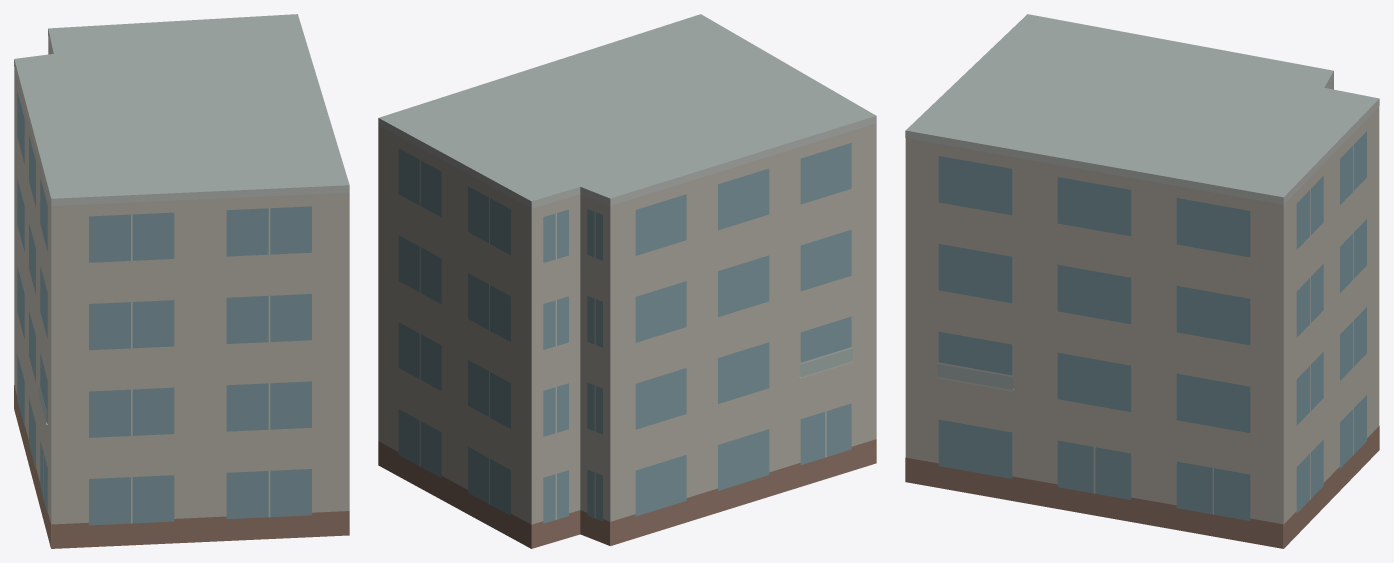
Rendered from survey-upis-32973999.glb.
The picture shows the model from 3 angles, left to right: view 1: azimuth 30°, elevation 25°; view 2: azimuth 150°, elevation 25°; view 3: azimuth 270°, elevation 25°; orthographic projection.
Parts seen in each view (by area): view 1: survey-upis-32973999.tmp; view 2: survey-upis-32973999.tmp; view 3: survey-upis-32973999.tmp.
Part boxes in pixels (left/top/right/bottom): survey-upis-32973999.tmp: left=14, top=14, right=349, bottom=548; survey-upis-32973999.tmp: left=378, top=14, right=876, bottom=548; survey-upis-32973999.tmp: left=905, top=14, right=1379, bottom=548.
Size of the model in its own units: 12.98 by 11.6 by 14.19.
